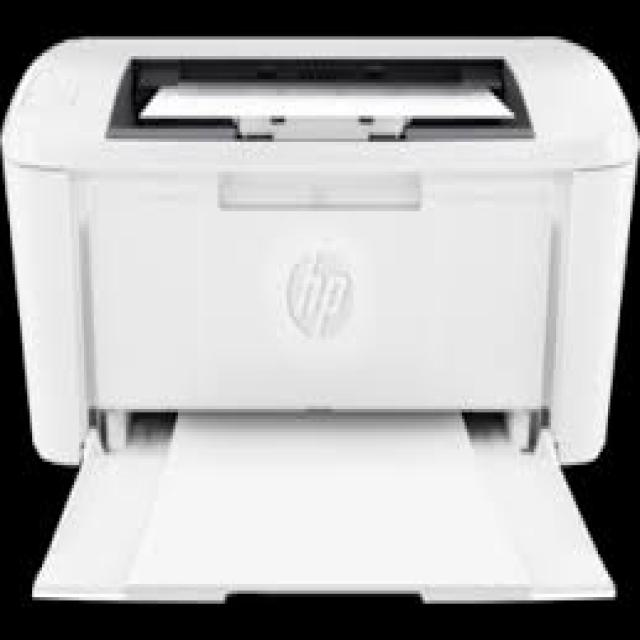printer: (0, 30, 638, 607)
